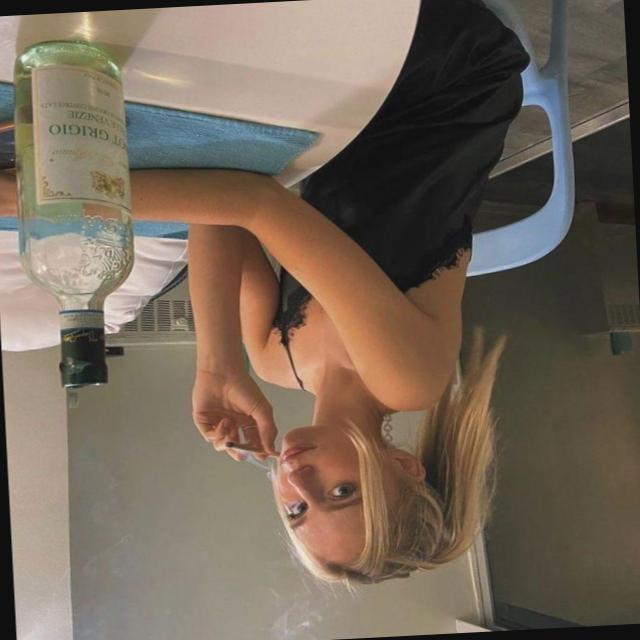smoke: (209, 424, 300, 486)
